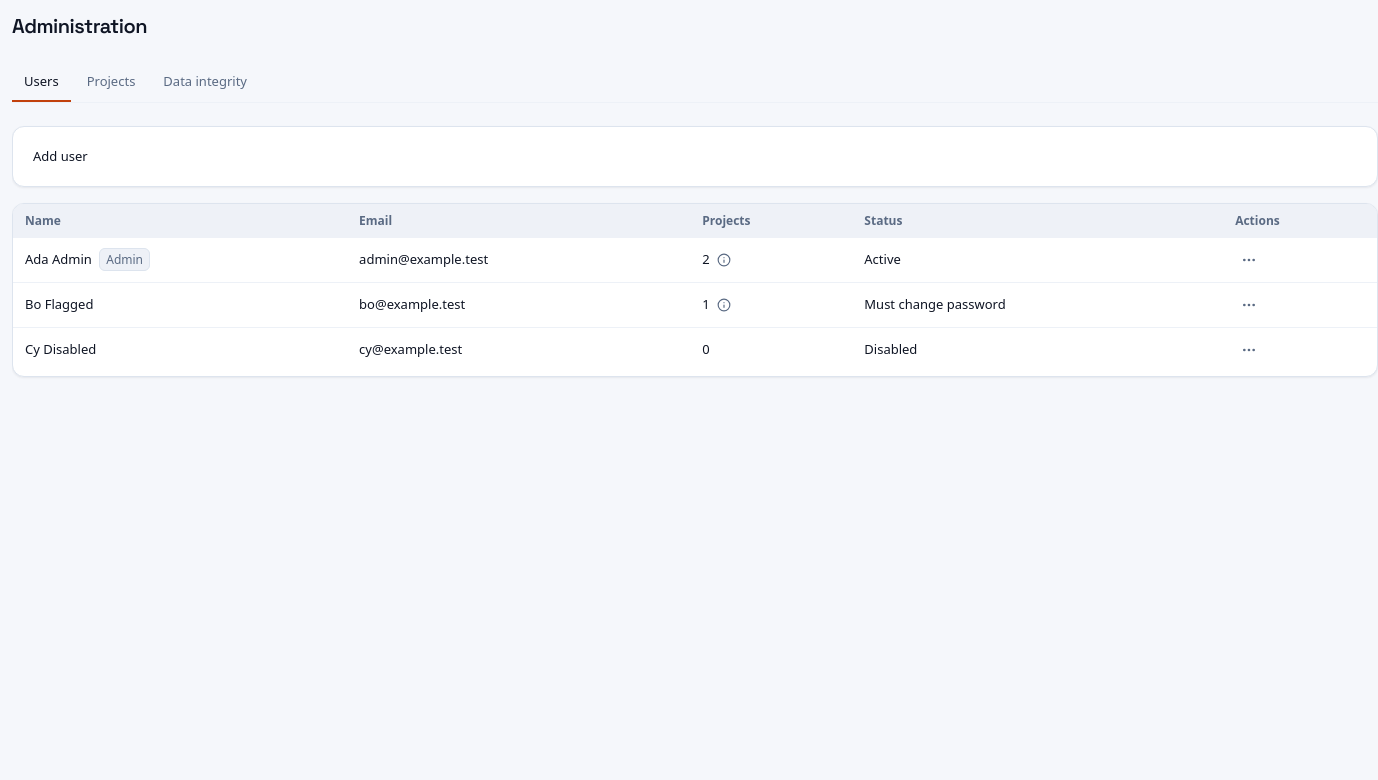
Test: AdminUsers — Add user › still adds the next project after a background refetch of the projects list fails
Step 1. Click the heading "Add user" → x=60, y=156, box [33, 146, 88, 164]
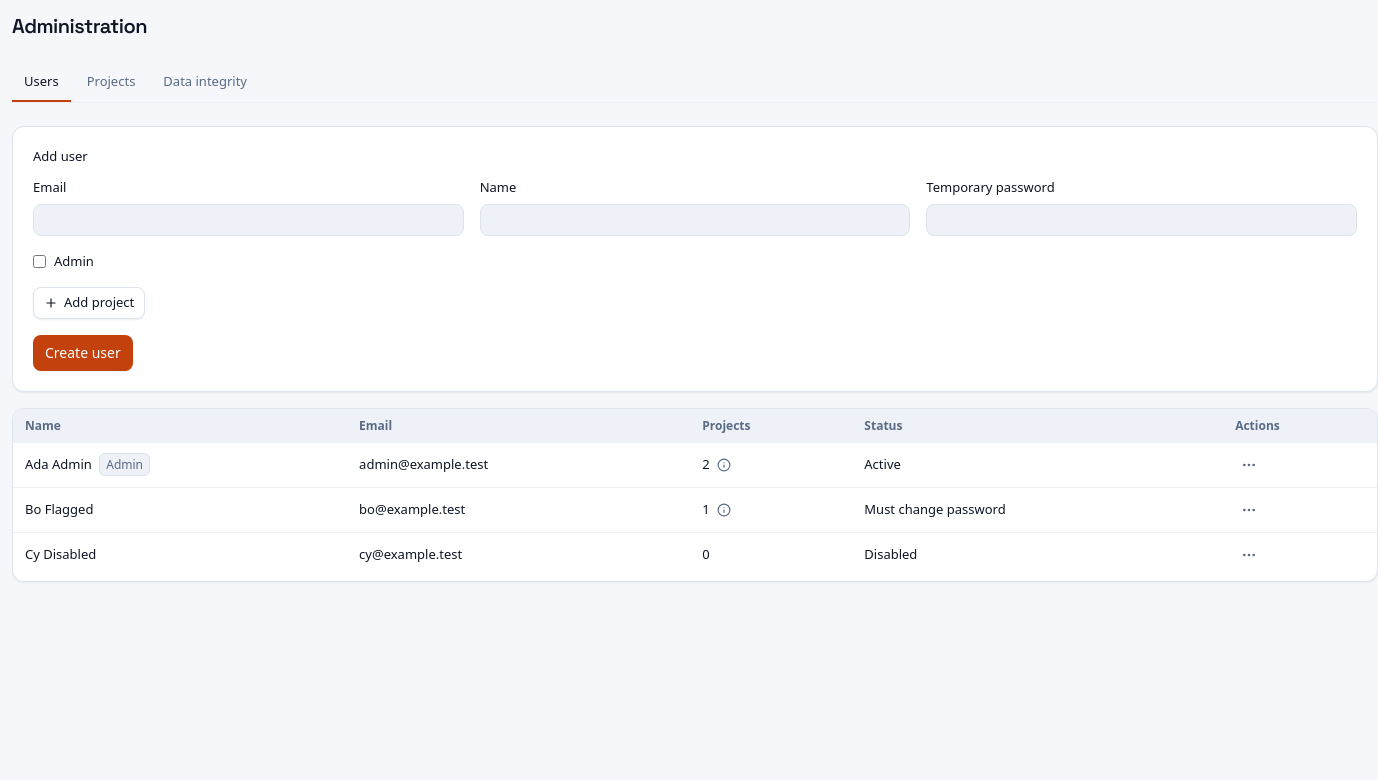
Expected: the button "Add project" is enabled
Step 2. Click the button "Add project" → x=89, y=303, box [33, 287, 145, 319]
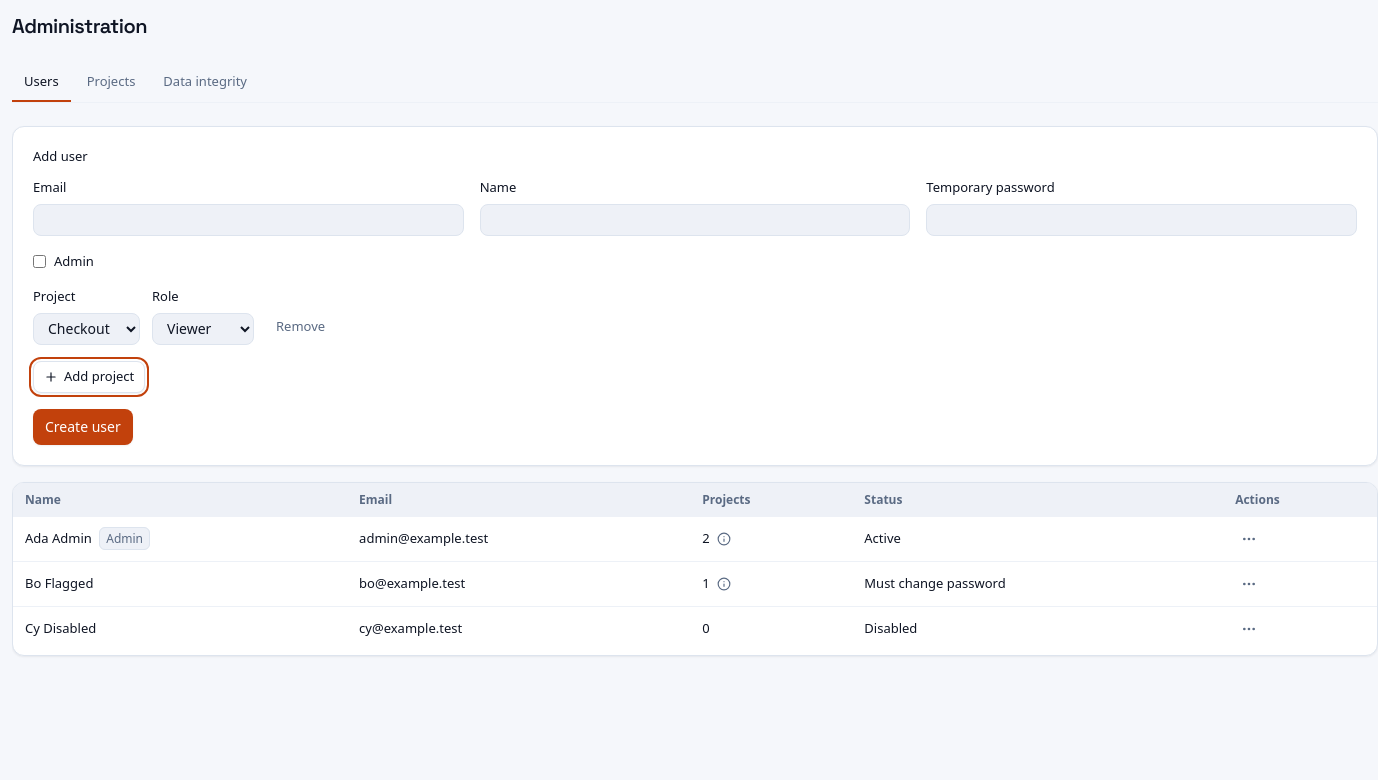
Expected: the button "Add project" is enabled
Expected: the dropdown named "Project 1" shows "Checkout", [33, 312, 140, 344]
Step 3. Click the button "Add project" → x=89, y=376, box [33, 360, 145, 392]
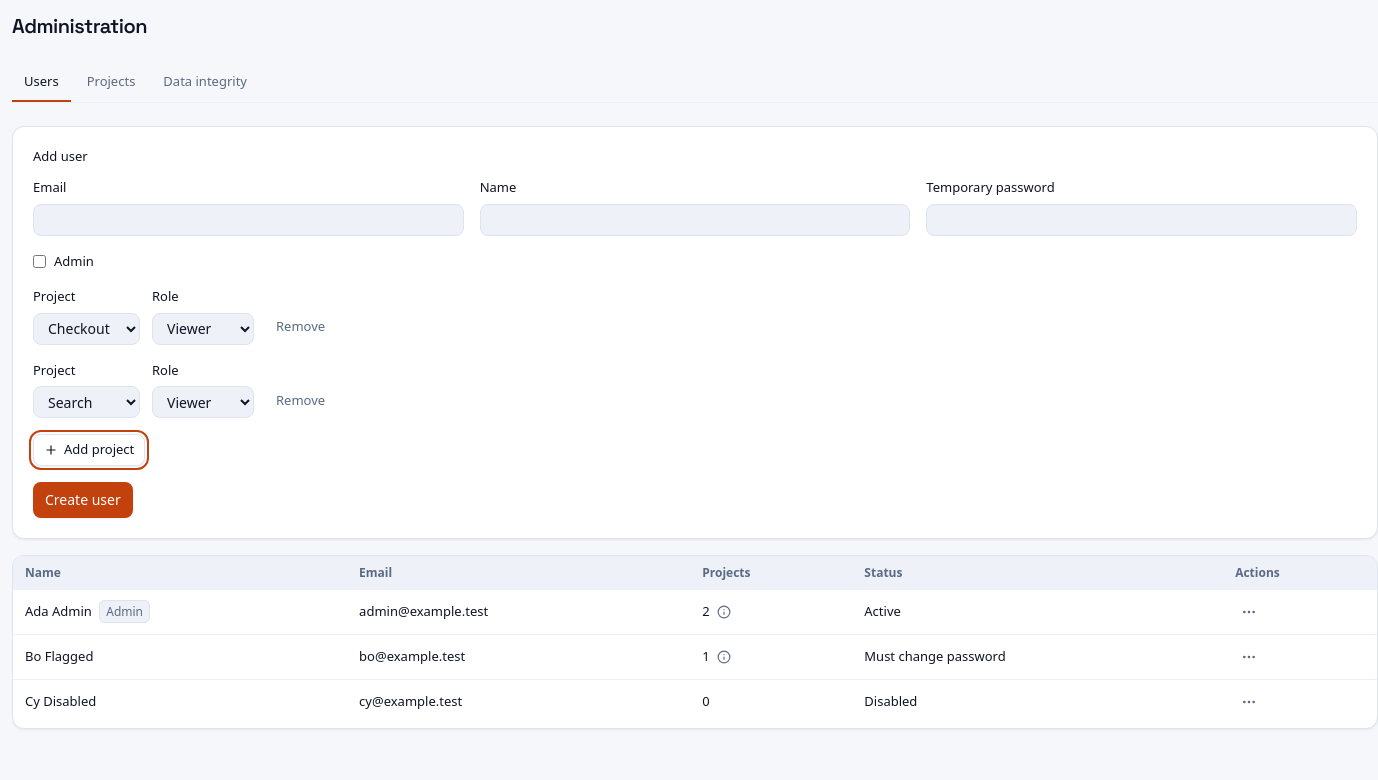
Expected: the dropdown named "Project 2" shows "Search", [33, 386, 140, 418]
